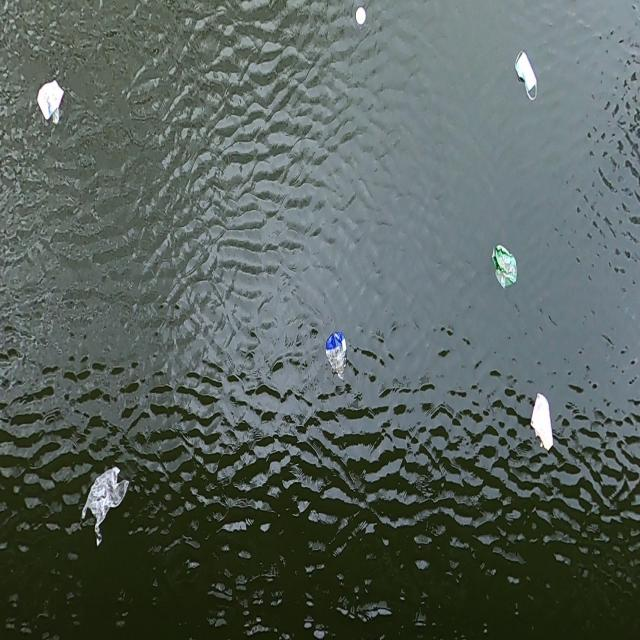Non plastique: (510, 46, 540, 105)
Sac plastique: (78, 465, 129, 551), (34, 74, 68, 126), (322, 327, 349, 384), (489, 242, 520, 291)
